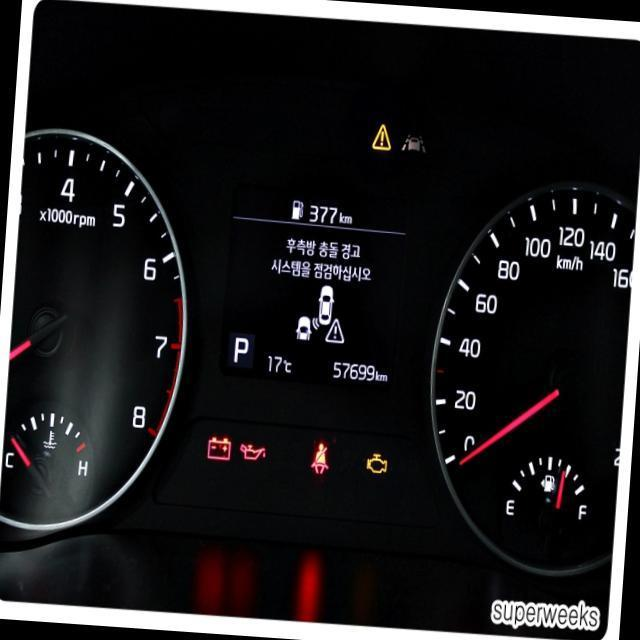Central Warning lamp: (371, 122, 392, 150)
